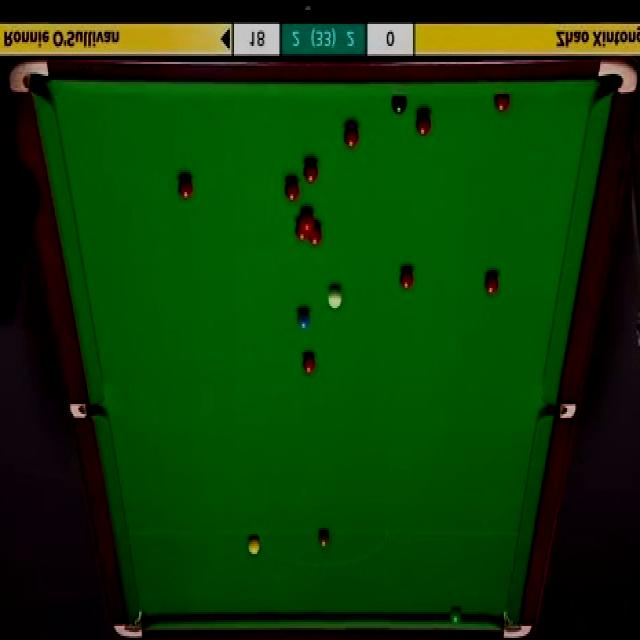black-ball: (392, 95, 408, 117)
blue-ball: (296, 311, 312, 332)
brown-ball: (318, 532, 330, 552)
green-ball: (450, 610, 463, 629)
red-ball: (303, 160, 320, 189), (177, 171, 194, 200), (302, 349, 320, 376), (398, 267, 415, 294), (344, 123, 360, 151), (415, 110, 432, 136), (281, 179, 301, 201), (484, 271, 498, 296), (294, 218, 308, 242), (309, 222, 322, 246), (493, 97, 511, 114), (300, 210, 316, 229)
white-ball: (327, 287, 343, 308)
yellow-ball: (247, 538, 259, 554)
